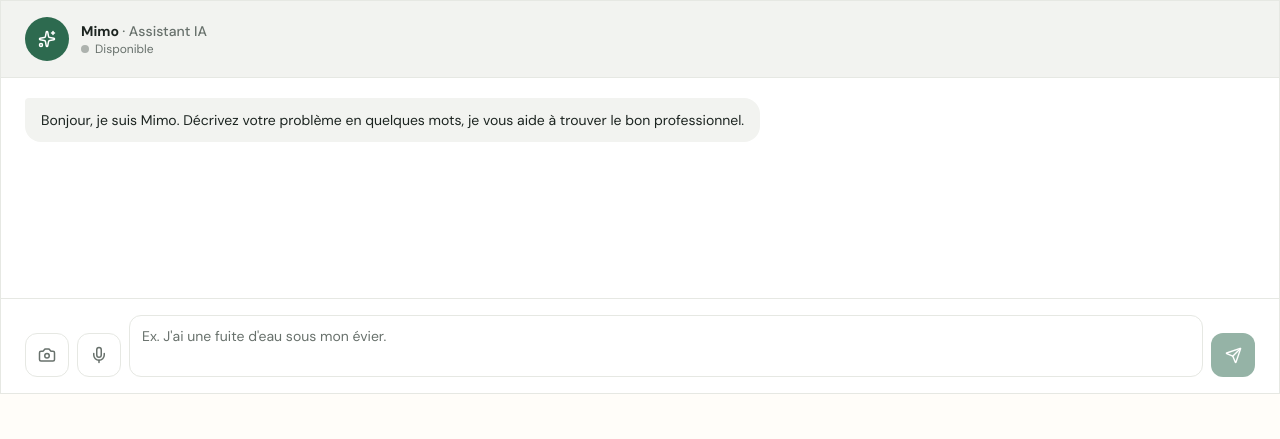
Échecs d’envoi › erreur réseau : explique quoi faire
Step 1. Type "Bonjour" into the text box with test id "mimo-saisie" → point(666, 346), box [129, 315, 1203, 377]
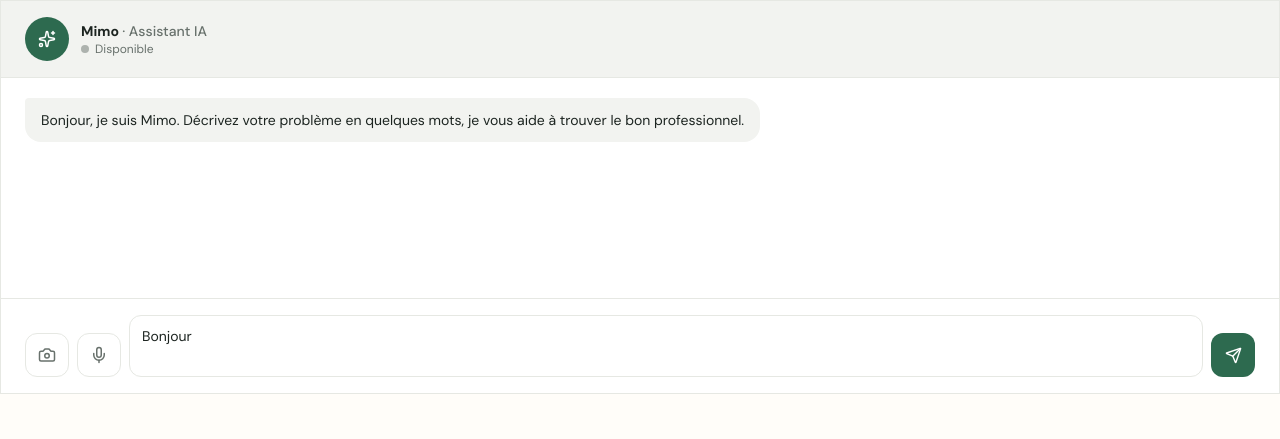
Step 2. Submit the form, box [1, 298, 1279, 393]
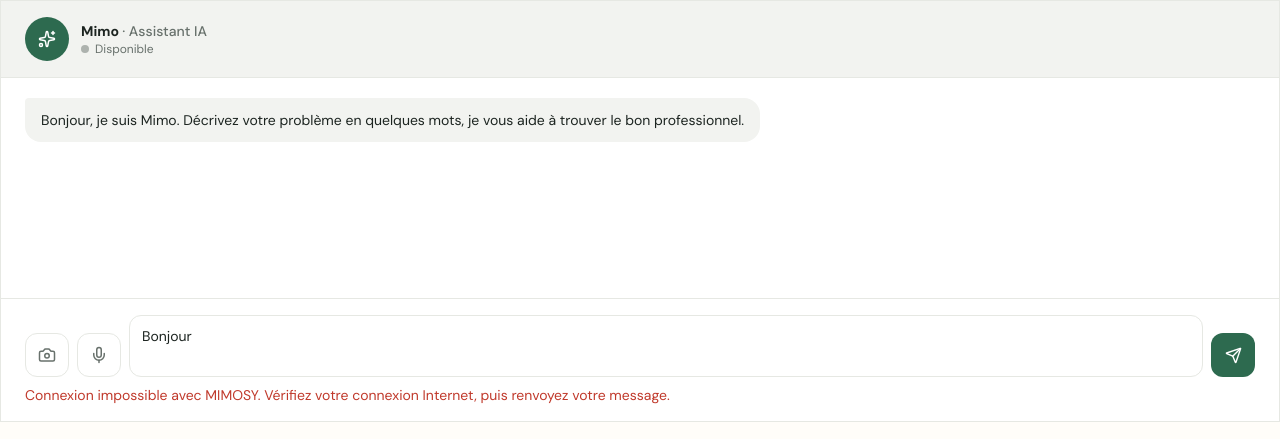
expect the text "Vérifiez votre connexion Internet" is shown: met, box [25, 386, 670, 404]
